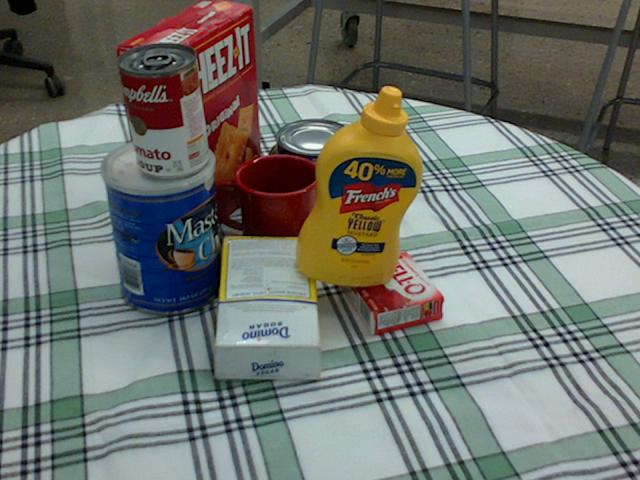cracker_box: (115, 0, 260, 245)
gelatin_box: (339, 250, 442, 335)
master_chef_can: (99, 136, 223, 315)
mug: (211, 152, 320, 256)
mustard_bottle: (295, 85, 422, 286)
potted_meat_can: (265, 138, 351, 214)
sugar_box: (216, 234, 323, 378)
tomato_soup_can: (118, 42, 207, 177)
tuna_fish_can: (274, 119, 351, 179)
